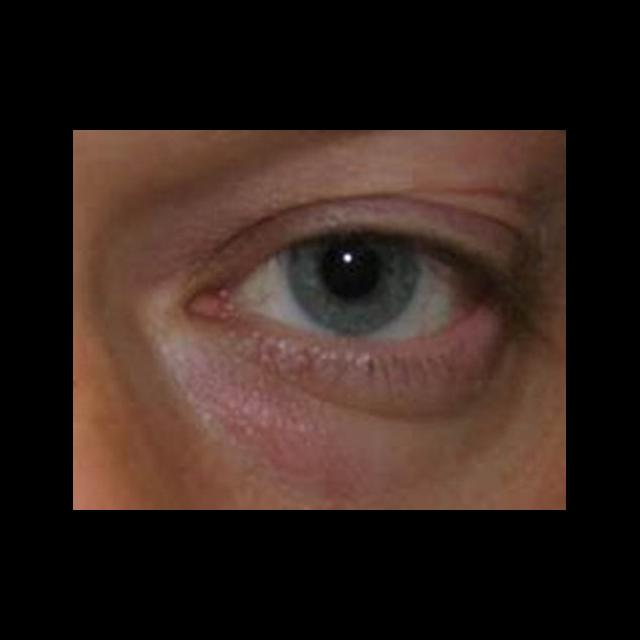eye: (240, 233, 481, 342)
iris: (288, 236, 422, 337)
